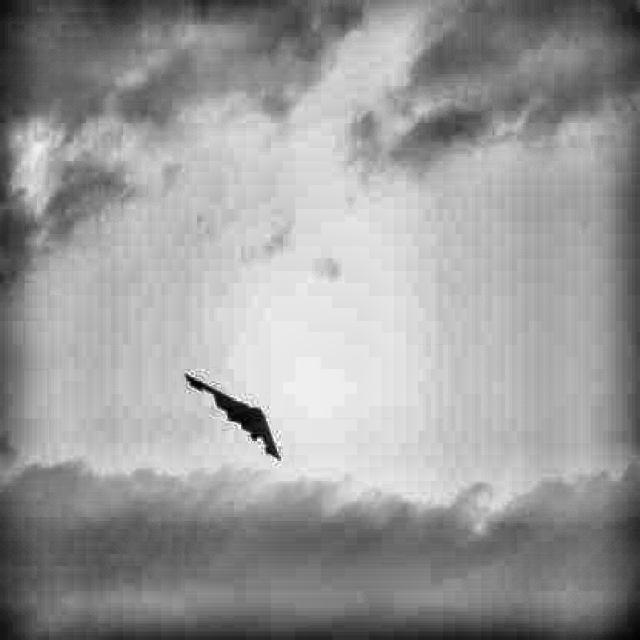B2: (185, 374, 280, 460)
